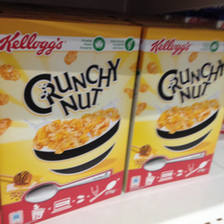cereal: (1, 17, 142, 208), (127, 18, 224, 191)
